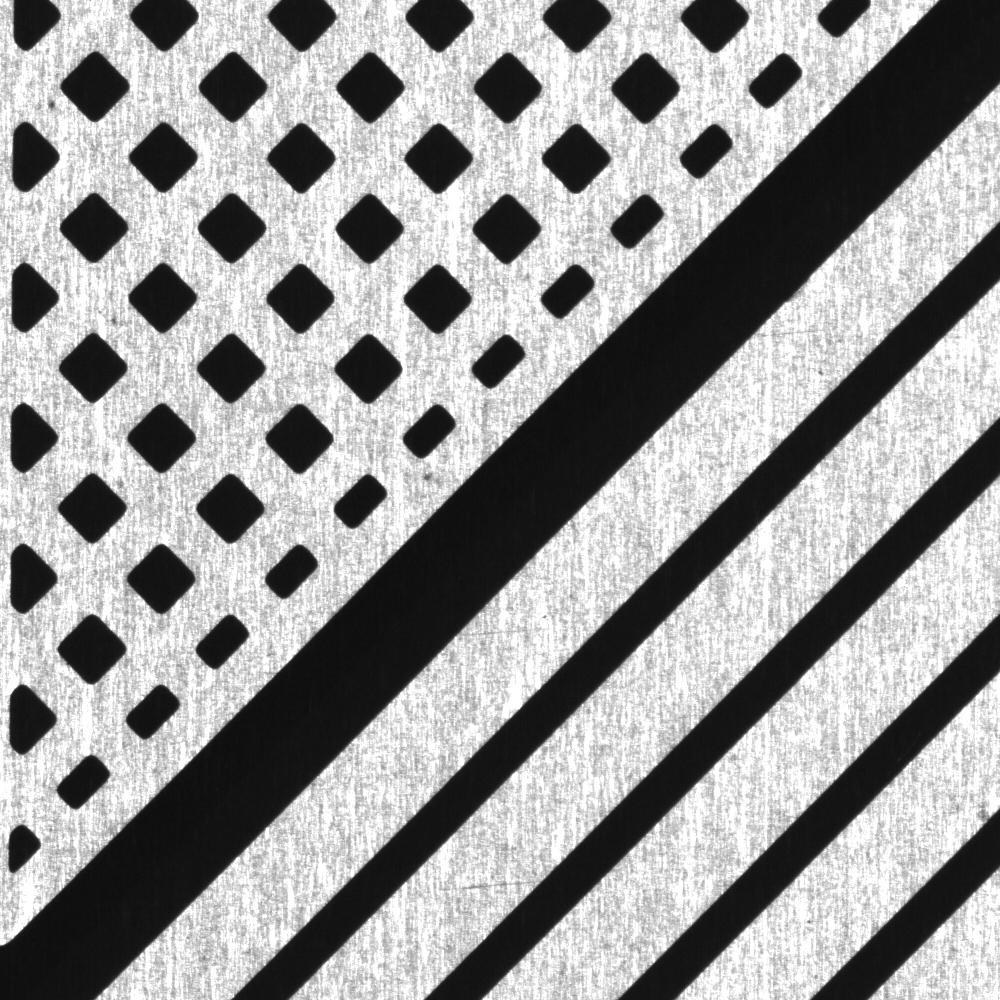Scar: (454, 618, 567, 653), (756, 315, 854, 353), (423, 869, 538, 900)
